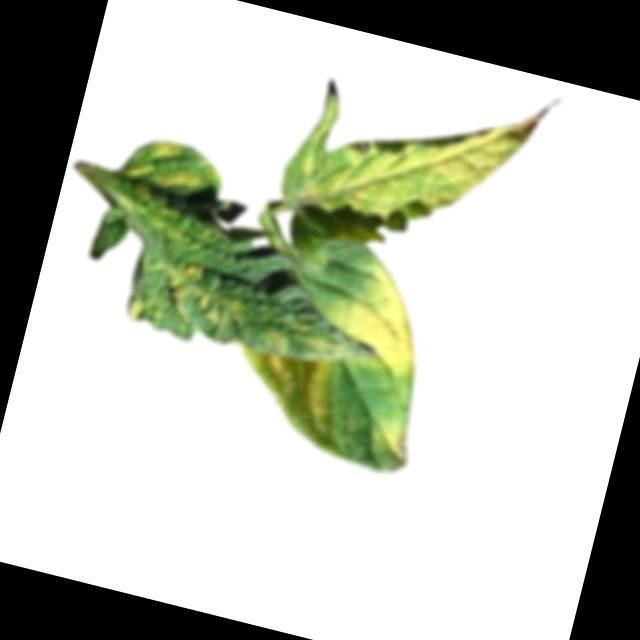Leaf_Mold: (284, 78, 526, 273), (316, 248, 439, 382), (215, 342, 342, 452), (160, 260, 251, 335), (123, 131, 207, 198), (286, 317, 351, 359), (366, 422, 412, 466), (261, 324, 290, 355), (122, 292, 148, 326)
